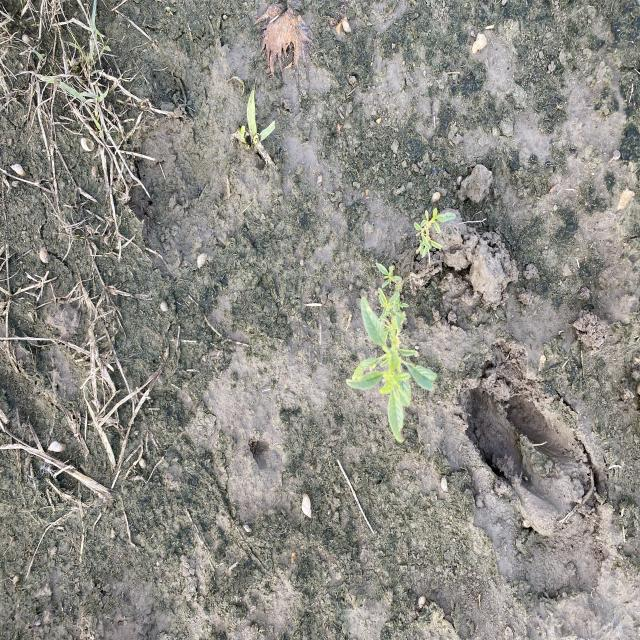Waterhemp: (344, 261, 438, 444), (412, 204, 456, 267)
